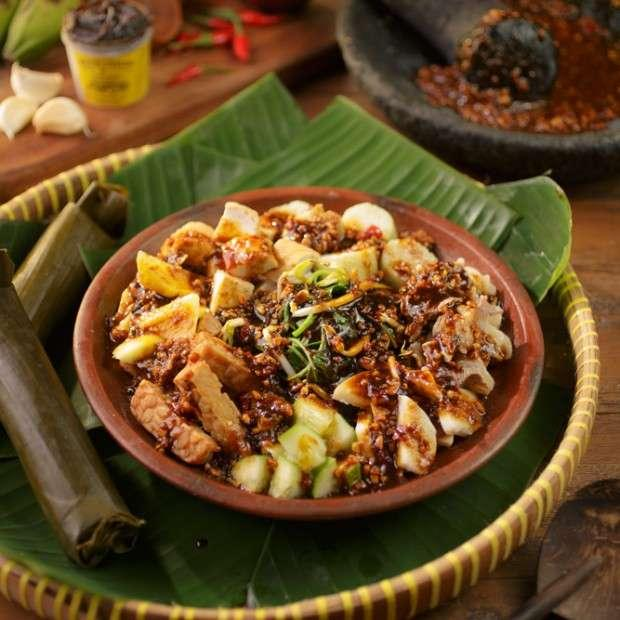rujak_cingur: (115, 199, 514, 500)
